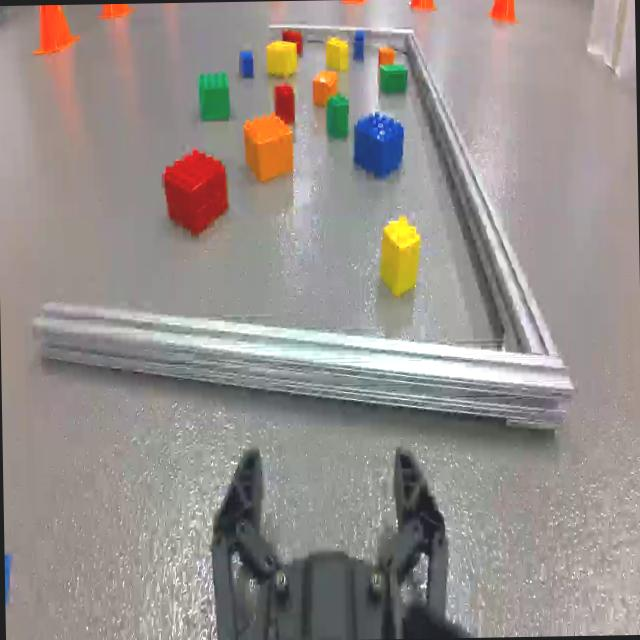block: (379, 220, 421, 298), (266, 41, 300, 75), (326, 36, 352, 68)
blue: (356, 114, 402, 174), (237, 48, 254, 76), (354, 29, 366, 62)
cone: (31, 4, 78, 51), (493, 0, 519, 24), (101, 3, 131, 18)
green: (197, 69, 231, 125), (327, 94, 348, 140), (382, 64, 408, 94)
metal barrier: (35, 30, 576, 434)
orange: (244, 112, 294, 179), (314, 65, 338, 101), (377, 51, 398, 68)
red goal: (160, 144, 228, 228), (272, 82, 298, 119), (284, 30, 306, 46)
